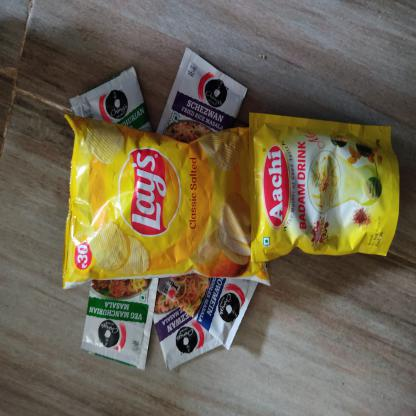classicsalted: (61, 113, 250, 291)
